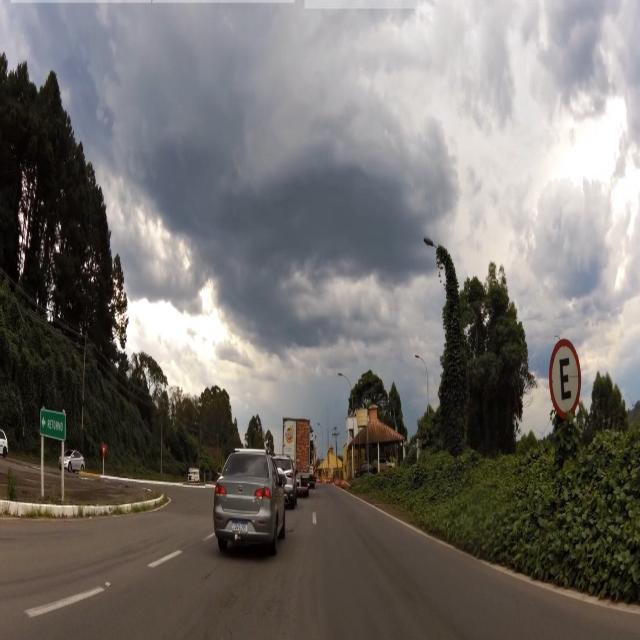R-6b: (550, 338, 579, 421)
